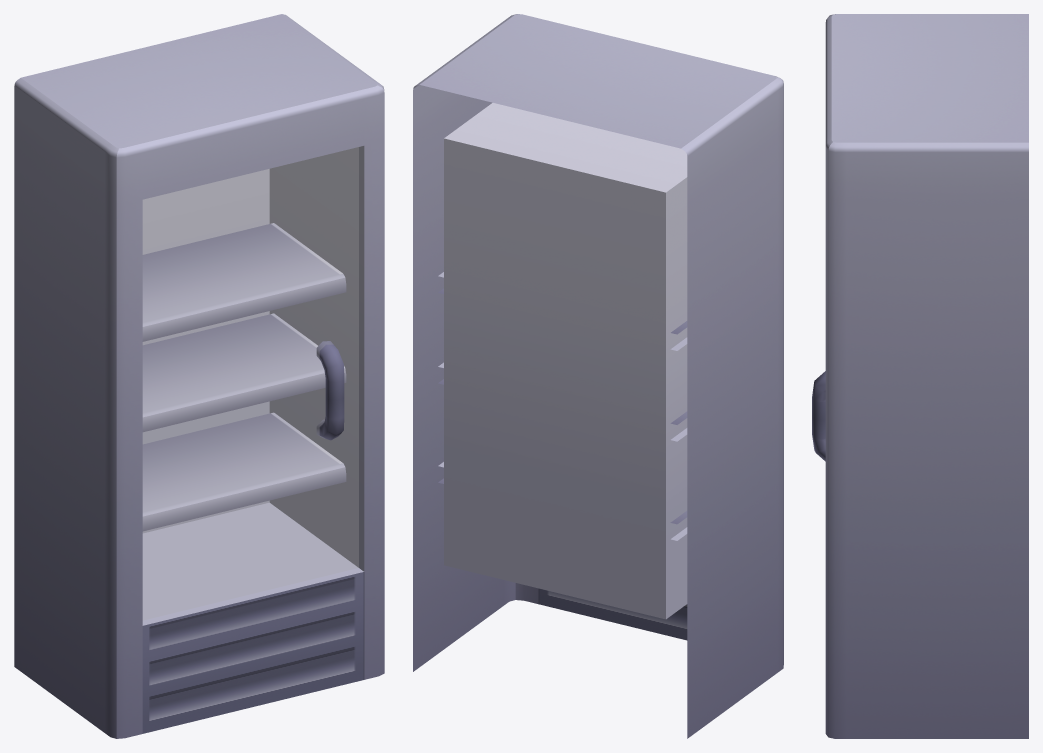
The model's file is asset_FridgeTwo1 1.fbx.
The picture shows the model from 3 angles, left to right: view 1: azimuth 30°, elevation 25°; view 2: azimuth 150°, elevation 25°; view 3: azimuth 270°, elevation 25°; orthographic projection.
Visible parts, largest first — view 1: asset_FridgeTwo1; view 2: asset_FridgeTwo1; view 3: asset_FridgeTwo1.
Boxes of the visible parts, left/top/right/bottom form: asset_FridgeTwo1: left=14, top=14, right=384, bottom=738; asset_FridgeTwo1: left=413, top=14, right=783, bottom=738; asset_FridgeTwo1: left=812, top=14, right=1028, bottom=738.
Size of the model in its own units: 108 by 222 by 73.41.
2 materials, 1 textured.
